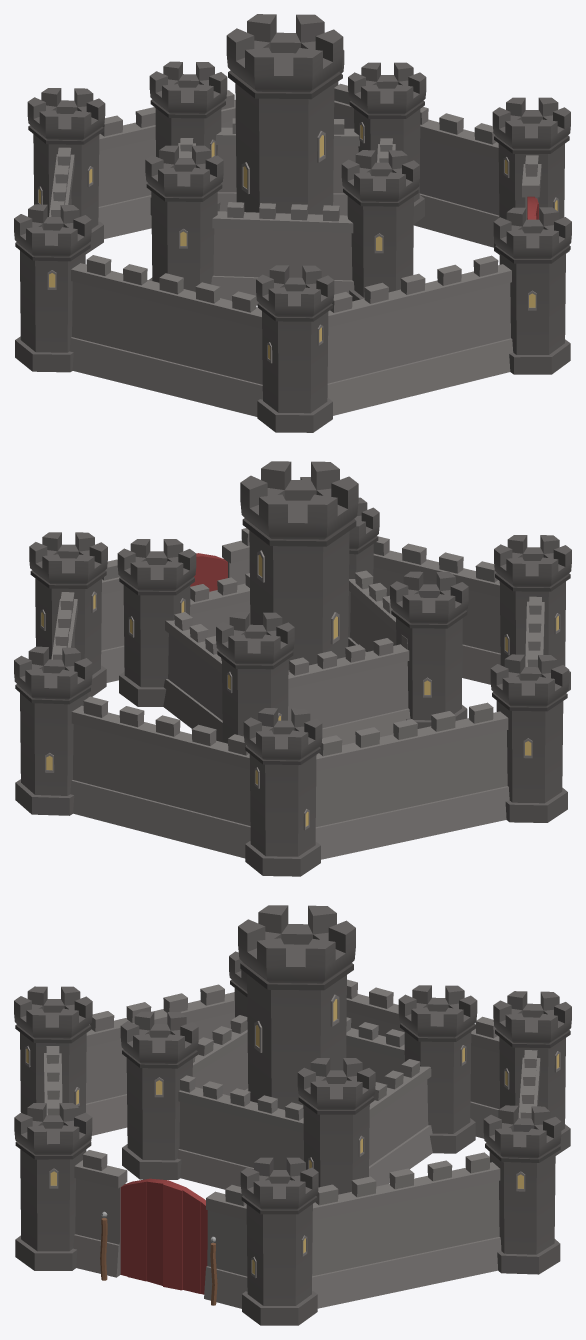
Rendered from Chatofor.fbx.
The picture shows the model from 3 angles, top to bottom: view 1: azimuth 30°, elevation 25°; view 2: azimuth 150°, elevation 25°; view 3: azimuth 270°, elevation 25°; orthographic projection.
Parts seen in each view (by area): view 1: Corps_tour (×10), Mur2, Mur1, Mur10, Mur5, Mur4, Mur11, Mur3, pCylinder10, Mur7; view 2: Corps_tour (×10), Mur3, Mur4, Mur9, Mur1, Mur11, Mur10, Mur7, Mur8, Mur2, Mur5, Mur6 (+2 smaller); view 3: Corps_tour (×10), Mur5, Mur8, pCube4, Mur2, Mur11, Mur6, Mur3, Mur7, Mur10, Mur9, Mur4 (+2 smaller).
Boxes of the visible parts, x1,y1,x2,y2 form: Corps_tour (×10): [14, 14, 571, 432]; Mur2: [69, 255, 262, 416]; Mur1: [327, 255, 513, 415]; Mur10: [211, 202, 354, 305]; Mur5: [334, 83, 499, 247]; Mur4: [98, 90, 235, 238]; Mur11: [216, 118, 359, 215]; Mur3: [49, 147, 74, 216]; pCylinder10: [228, 70, 341, 99]; Mur7: [522, 155, 541, 219]; Corps_tour (×10): [14, 461, 571, 876]; Mur3: [315, 702, 509, 859]; Mur4: [70, 696, 250, 858]; Mur9: [288, 635, 410, 745]; Mur1: [373, 536, 500, 684]; Mur11: [163, 612, 222, 742]; Mur10: [348, 570, 396, 652]; Mur7: [101, 559, 124, 682]; Mur8: [190, 573, 250, 637]; Mur2: [525, 596, 544, 667]; Mur5: [51, 592, 77, 659]; Mur6: [222, 528, 249, 585]; Corps_tour (×10): [14, 905, 571, 1325]; Mur5: [312, 1152, 501, 1308]; Mur8: [177, 1075, 303, 1189]; pCube4: [120, 1178, 207, 1294]; Mur2: [86, 984, 234, 1135]; Mur11: [369, 1059, 432, 1186]; Mur6: [73, 1150, 127, 1277]; Mur3: [346, 979, 499, 1138]; Mur7: [204, 1185, 247, 1308]; Mur10: [192, 1015, 248, 1095]; Mur9: [346, 1017, 404, 1083]; Mur4: [518, 1050, 540, 1118].
Size of the model in its own units: 40.41 by 19.5 by 36.79.
